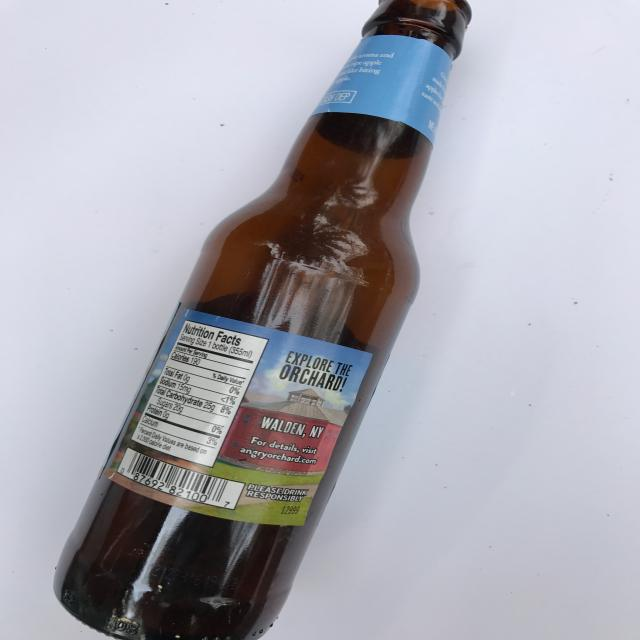glass: (52, 0, 472, 639)
